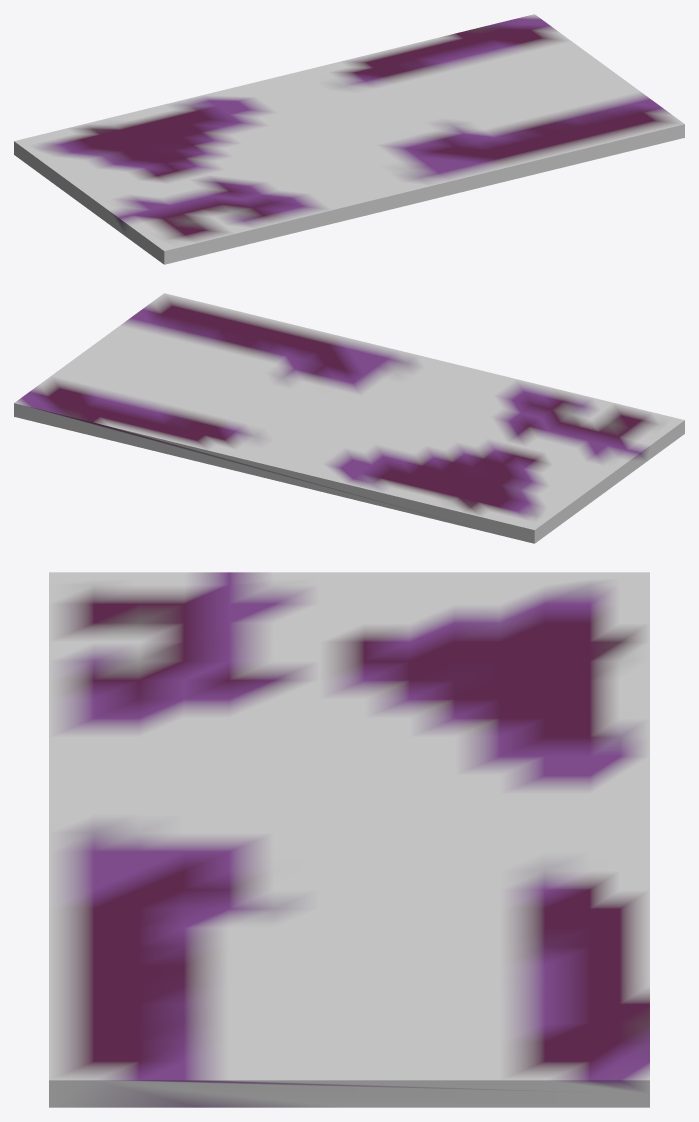
Rendered from floor_1.fbx.
3 views of the same model, one above another, from view 1: azimuth 30°, elevation 25°; view 2: azimuth 150°, elevation 25°; view 3: azimuth 270°, elevation 25° (orthographic). The views are drawn at different scales.
Parts seen in each view (by area): view 1: FLOOR_01; view 2: FLOOR_01; view 3: FLOOR_01.
Boxes of the visible parts, x1,y1,x2,y2 form: FLOOR_01: [14, 14, 684, 264]; FLOOR_01: [14, 293, 684, 543]; FLOOR_01: [49, 572, 649, 1107].
Bounding box in the file's own units: 4000 × 100 × 2000.
